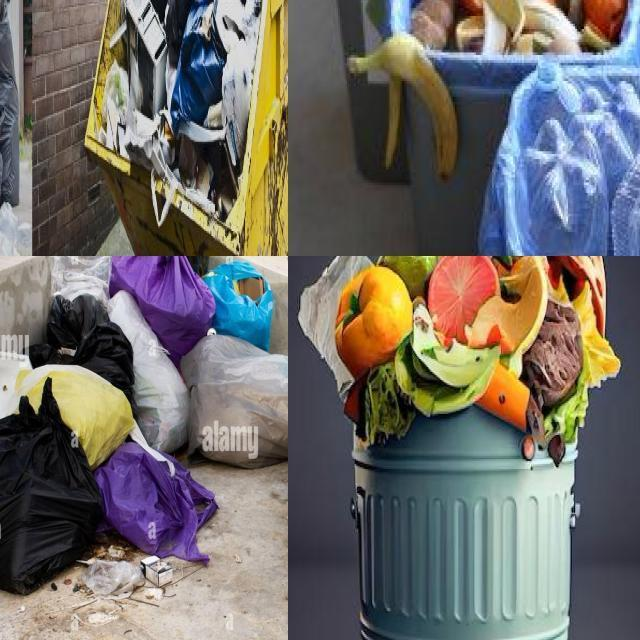E_waste: (127, 0, 166, 117)
Garbage: (0, 256, 288, 593), (293, 256, 626, 454), (93, 0, 263, 225), (517, 64, 640, 256), (345, 0, 612, 66), (584, 0, 625, 42)
Plastic: (524, 120, 609, 256), (570, 81, 640, 202), (528, 60, 581, 131)
Plastic_Bag: (0, 378, 102, 594), (94, 442, 217, 563), (180, 335, 288, 468), (107, 290, 190, 453), (15, 365, 135, 469), (110, 256, 216, 367), (30, 294, 135, 404), (171, 5, 224, 138), (203, 262, 273, 351), (221, 37, 257, 166), (49, 256, 113, 305), (165, 0, 193, 64)
contaminated_waste: (522, 64, 640, 256)
